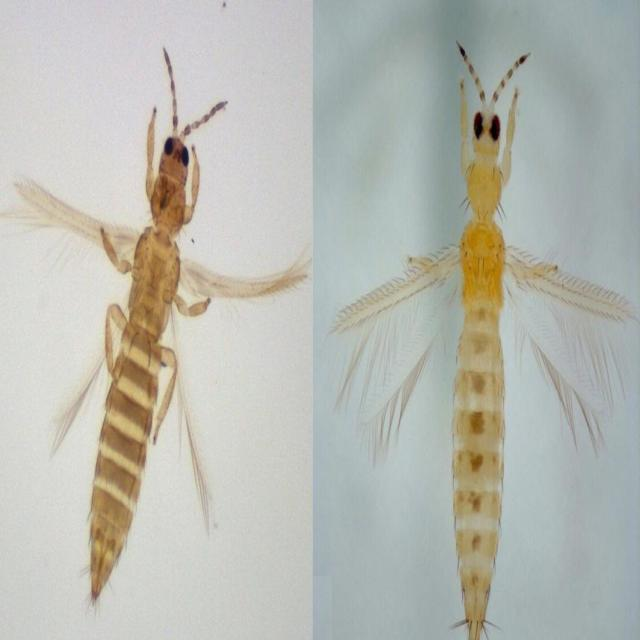Thrips: (39, 32, 235, 564), (409, 29, 560, 567)
